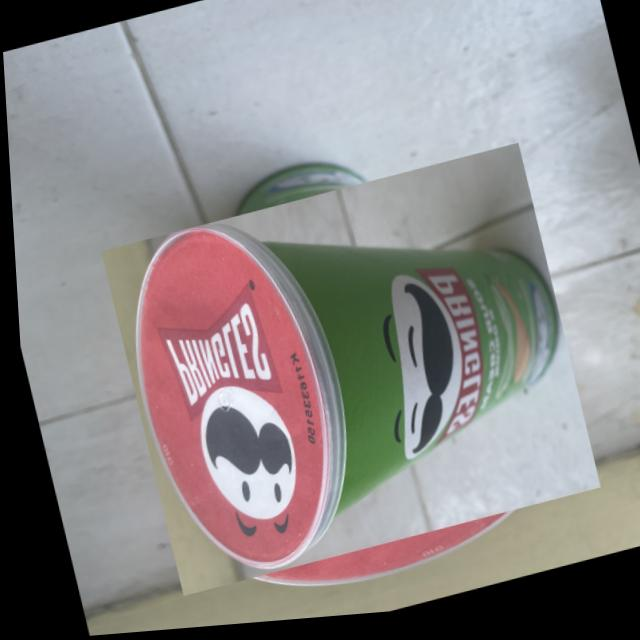a pringles: (108, 133, 583, 616)
